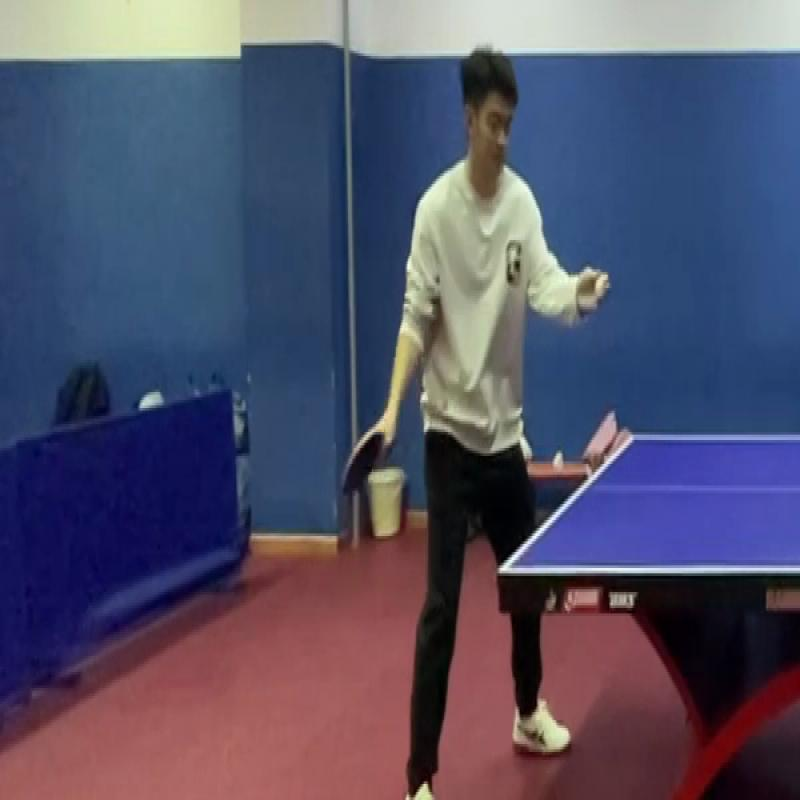bats: (336, 417, 390, 508)
